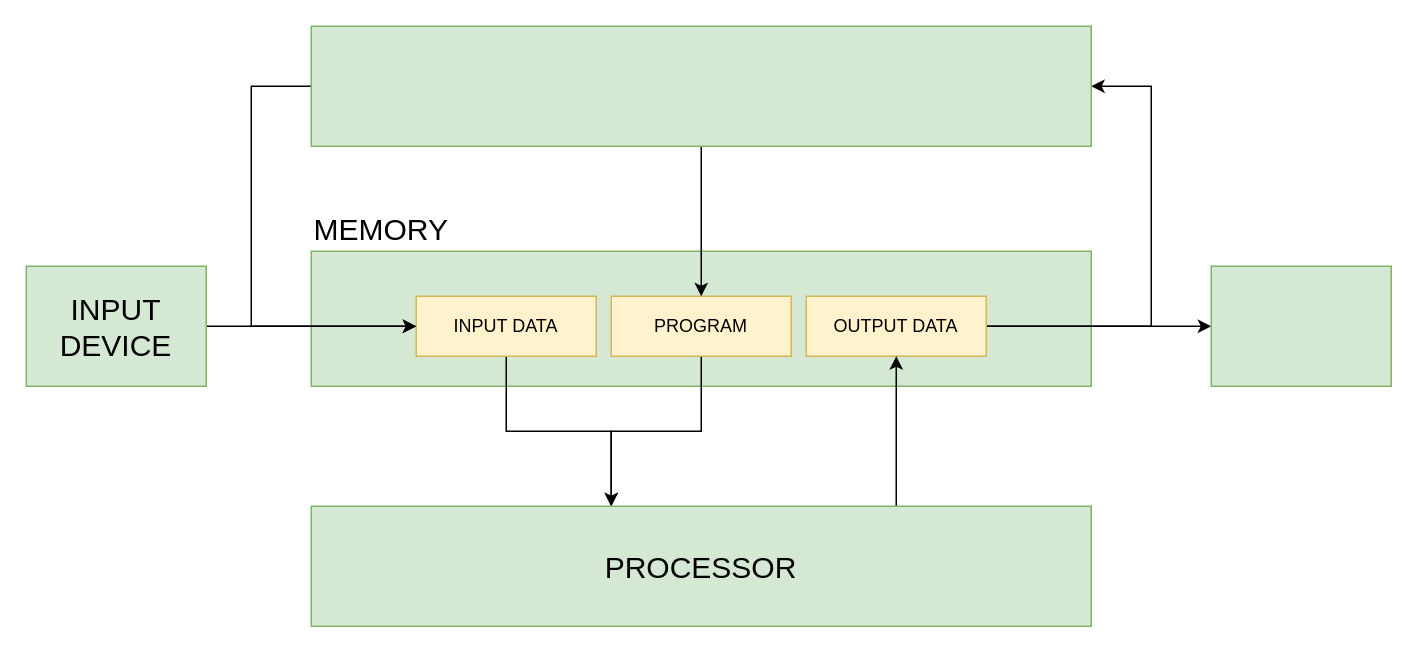
Some shapes in this 1418 by 653 pixel diagram are drawn without their labels. Here are the shapes that lost their labels. From the top down, the centre of each, then its label:
(x=700, y=85): STORAGE
(x=1300, y=325): OUTPUT DEVICE
